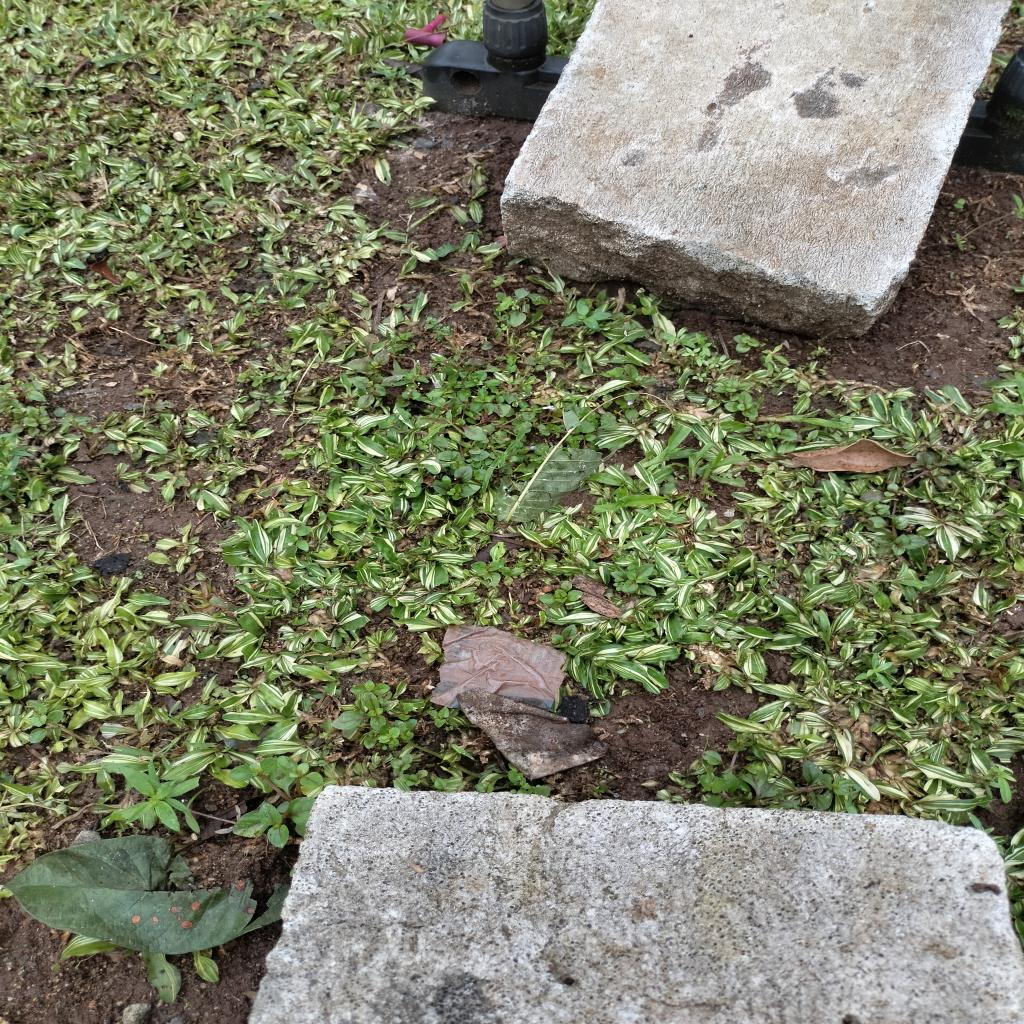akar wangi palsu: (852, 651, 896, 692)
bayi: (691, 371, 707, 382), (134, 569, 145, 580), (240, 674, 255, 682)
lumut besar: (424, 314, 454, 342)
rambat atas: (98, 738, 178, 791), (228, 1, 300, 33), (148, 698, 190, 728), (231, 38, 271, 55)
rambat bawah: (621, 422, 697, 478), (699, 442, 751, 494), (592, 493, 685, 514), (686, 439, 717, 483)
ungu tunggang: (699, 728, 860, 808), (227, 754, 326, 849), (428, 421, 536, 502), (345, 333, 429, 413), (329, 679, 419, 751), (0, 380, 99, 435), (857, 482, 930, 556), (452, 372, 530, 418), (603, 558, 664, 600), (490, 272, 531, 328), (912, 448, 962, 489), (534, 577, 582, 609), (27, 702, 64, 743), (722, 388, 764, 420), (543, 622, 582, 656), (468, 556, 507, 588), (713, 371, 752, 395), (390, 754, 415, 776), (402, 767, 428, 788), (427, 710, 457, 728)
